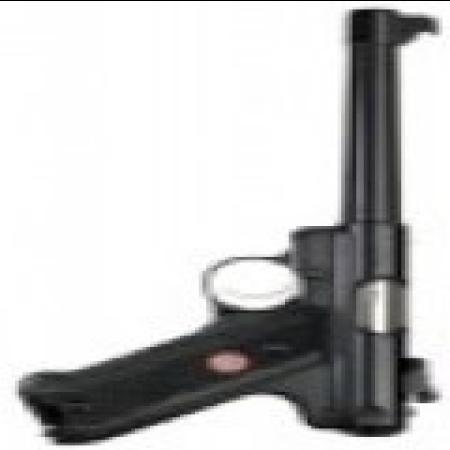Pistol: (30, 9, 442, 448)
